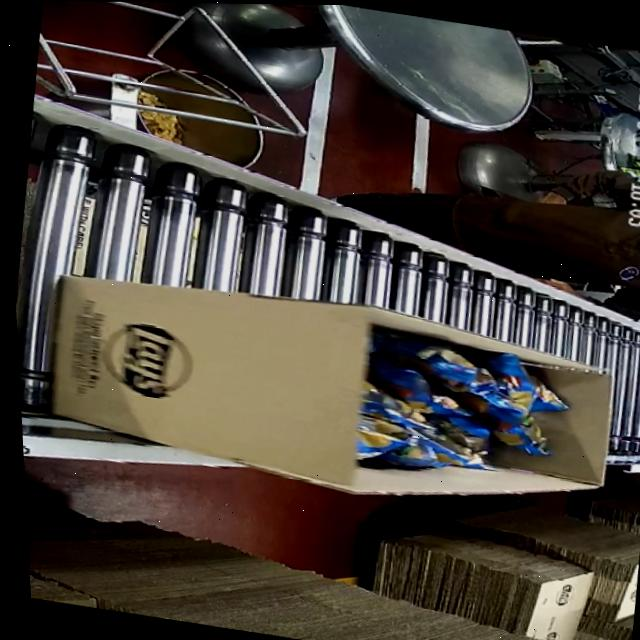PAPRIKA: (344, 330, 590, 502)
